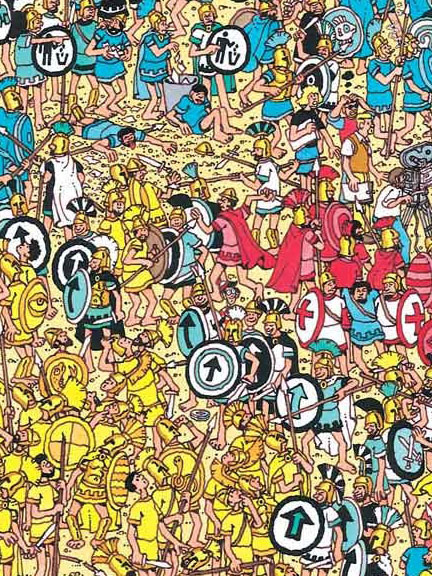waldo: (217, 279, 238, 306)
